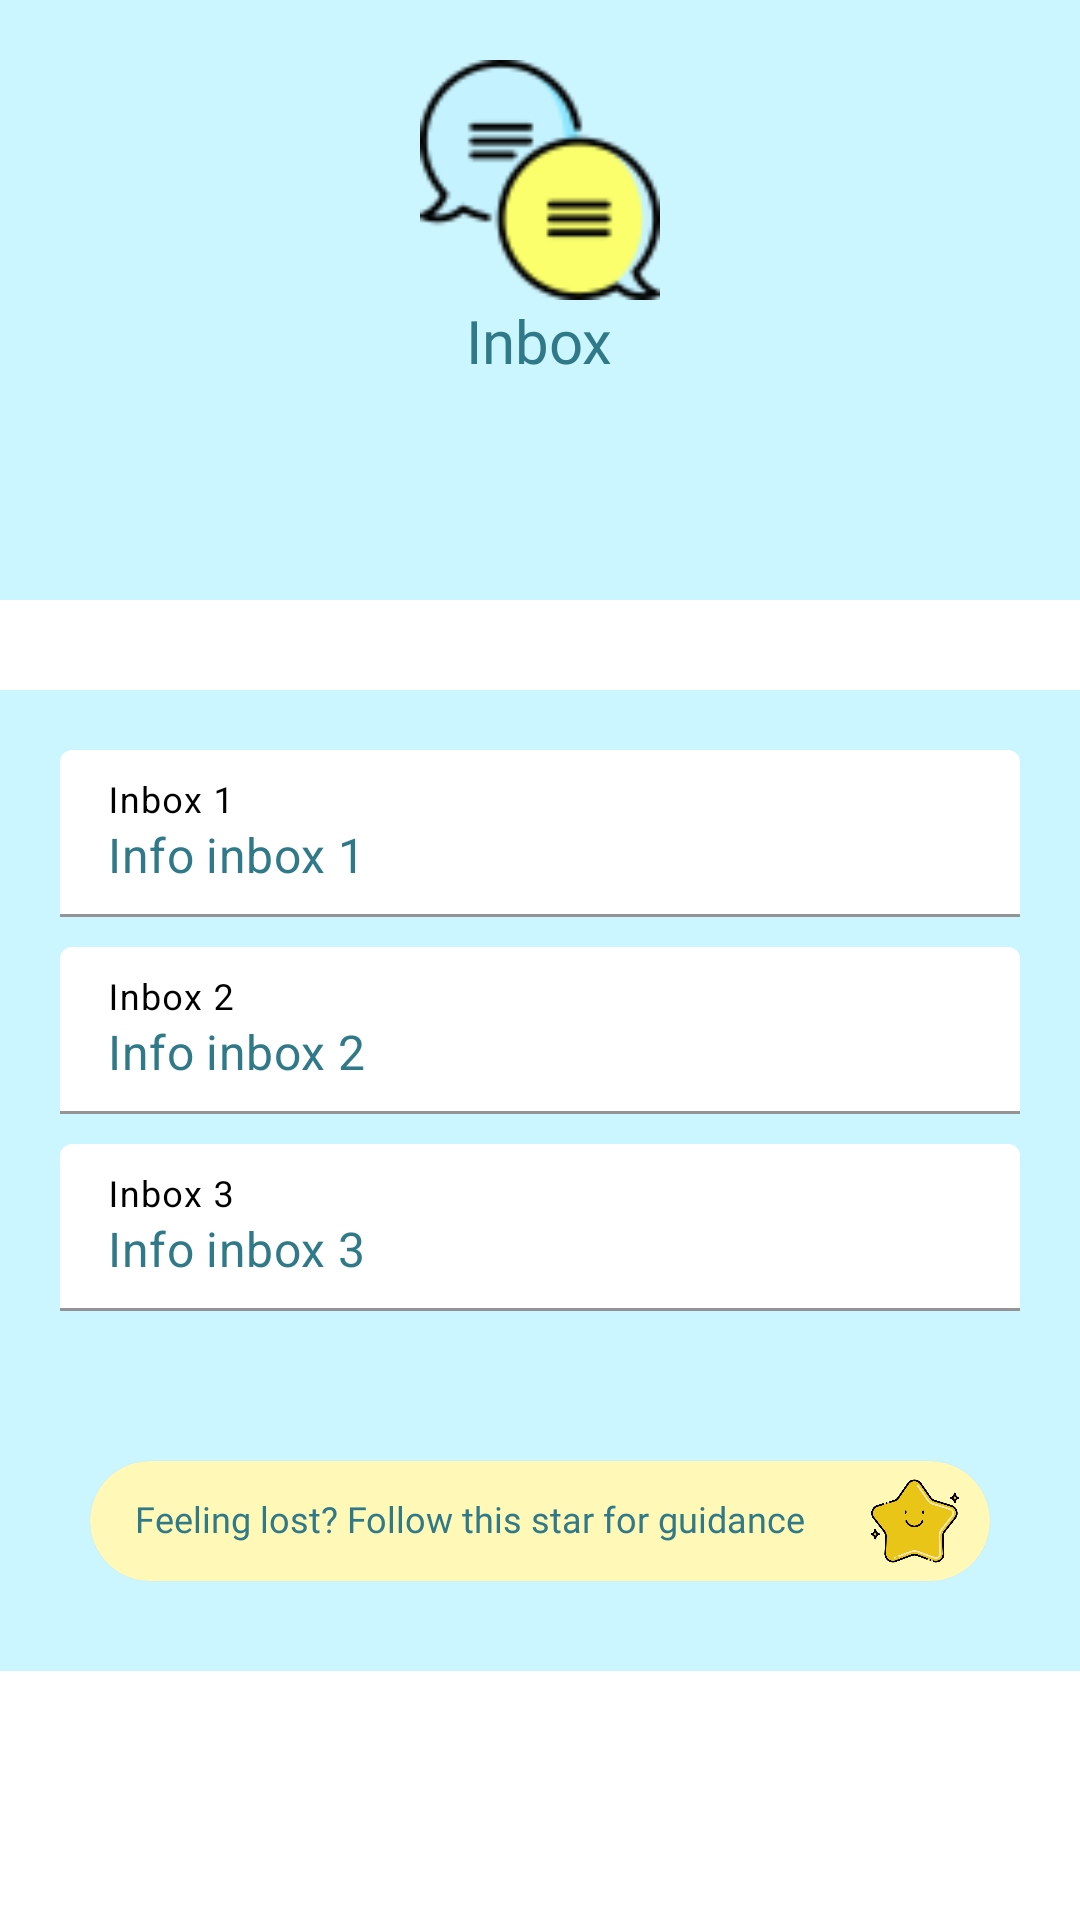

Locate icon controls on the screen. Image size 1080px×1920px, boxes as {"left": x1, "top": y1, "right": x2, "bottom": y2}.
chatbubble: {"left": 420, "top": 60, "right": 660, "bottom": 300}
